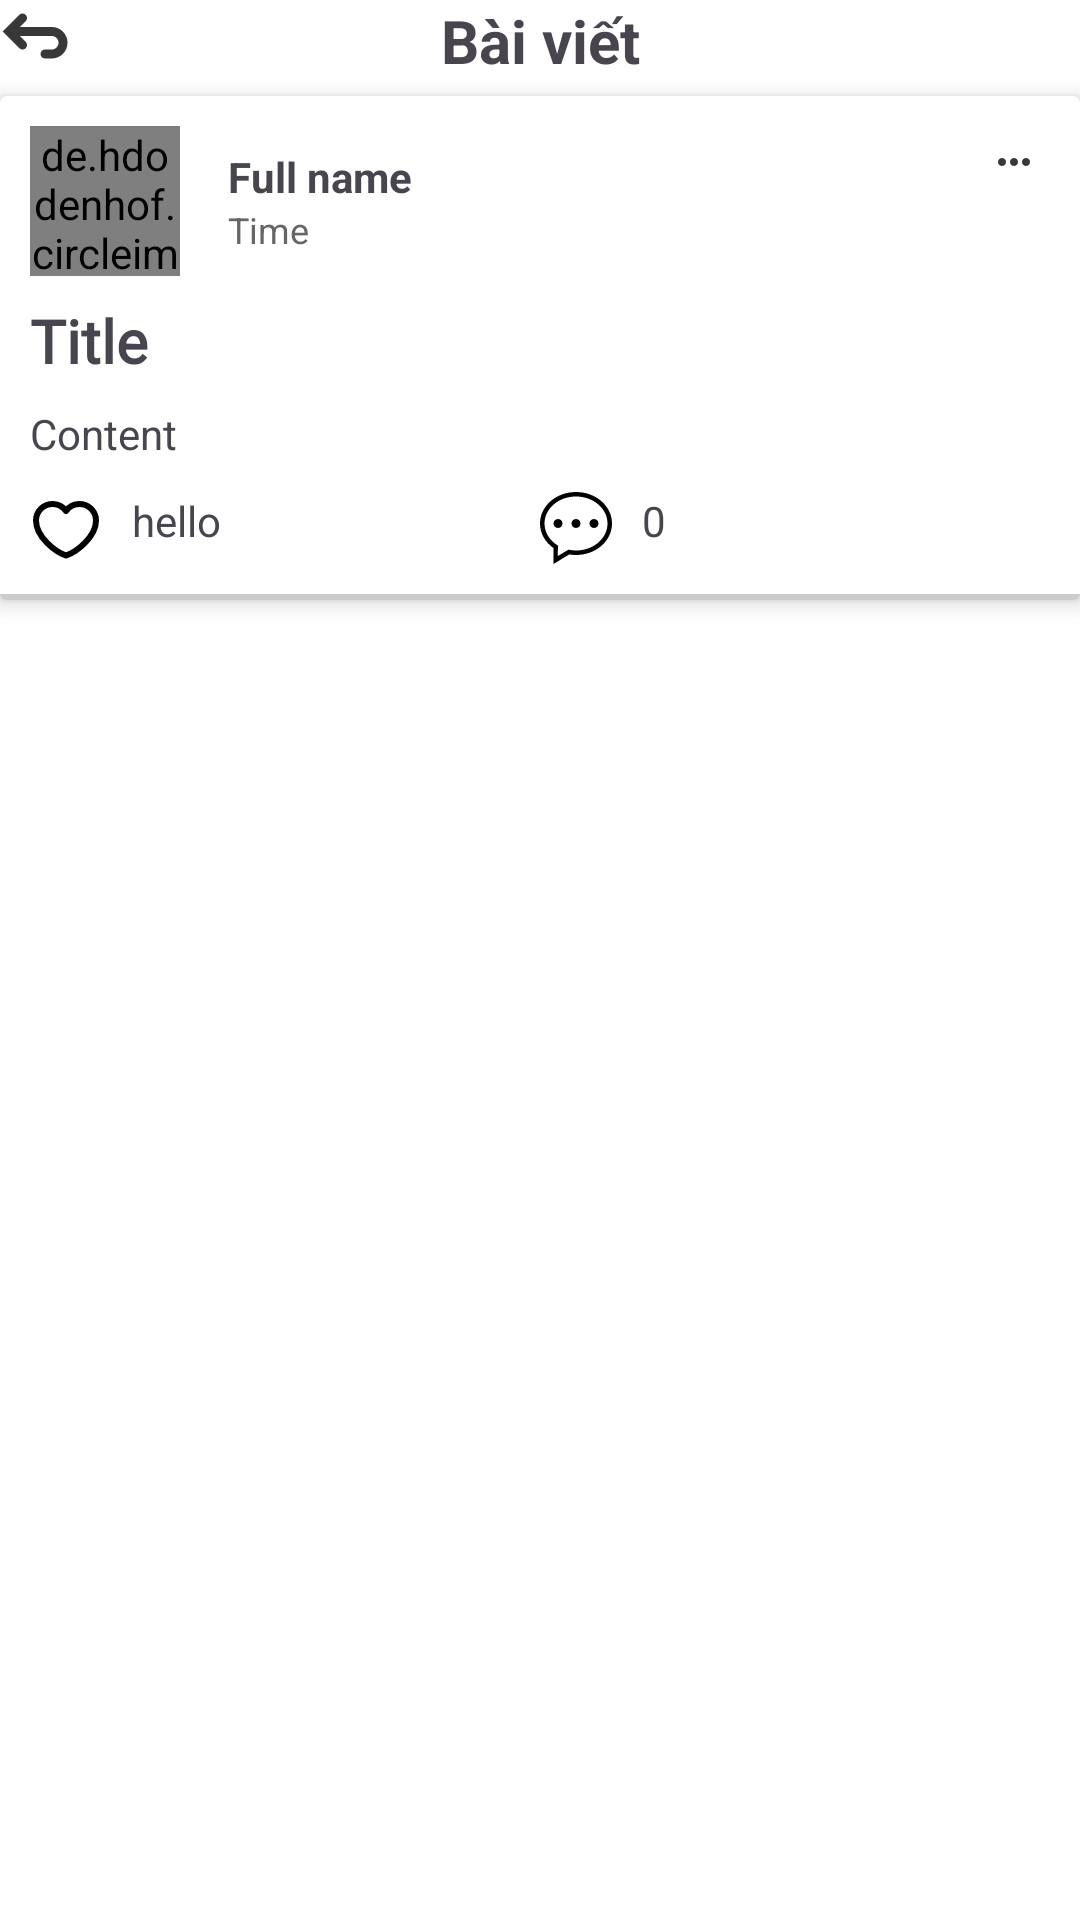

Icons on this 1080px×1920px Android screen, each with its box as bbox(x1, y1, x2, y2):
back: bbox(3, 13, 68, 59)
comment: bbox(540, 492, 612, 564)
love unclick: bbox(33, 501, 99, 559)
More actions: bbox(998, 158, 1030, 166)
